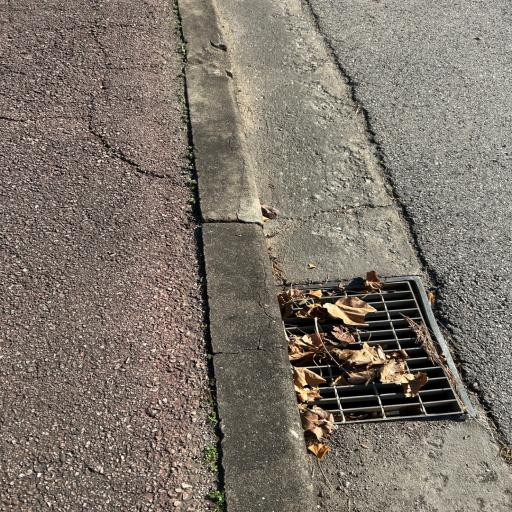debris: (294, 330, 426, 396), (299, 367, 342, 446), (326, 296, 373, 327), (287, 288, 322, 317), (411, 321, 436, 360), (333, 326, 357, 344), (363, 273, 383, 293), (443, 368, 457, 387), (334, 375, 343, 384), (367, 408, 380, 414), (439, 354, 443, 363), (384, 407, 393, 410)
drain: (286, 272, 474, 448)
